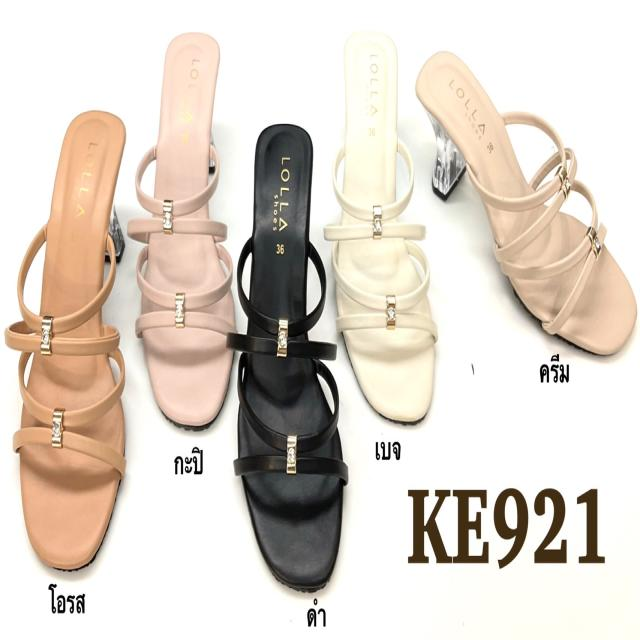bej: (336, 32, 434, 426)
black: (234, 122, 342, 586)
cream: (417, 49, 634, 360)
kapi: (142, 29, 234, 423)
orot: (21, 109, 130, 566)
